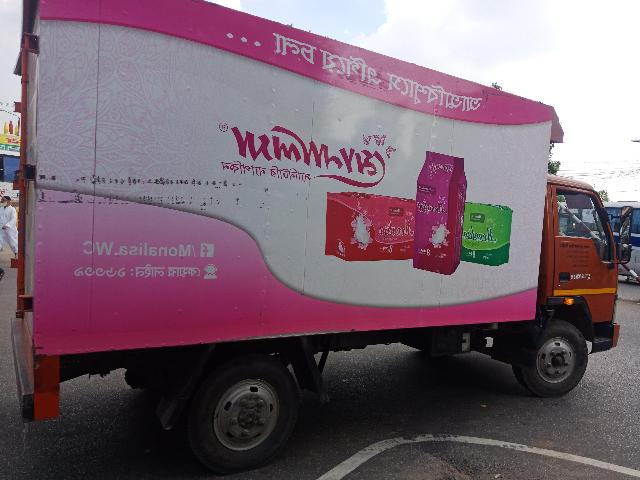truck: (0, 4, 628, 473)
